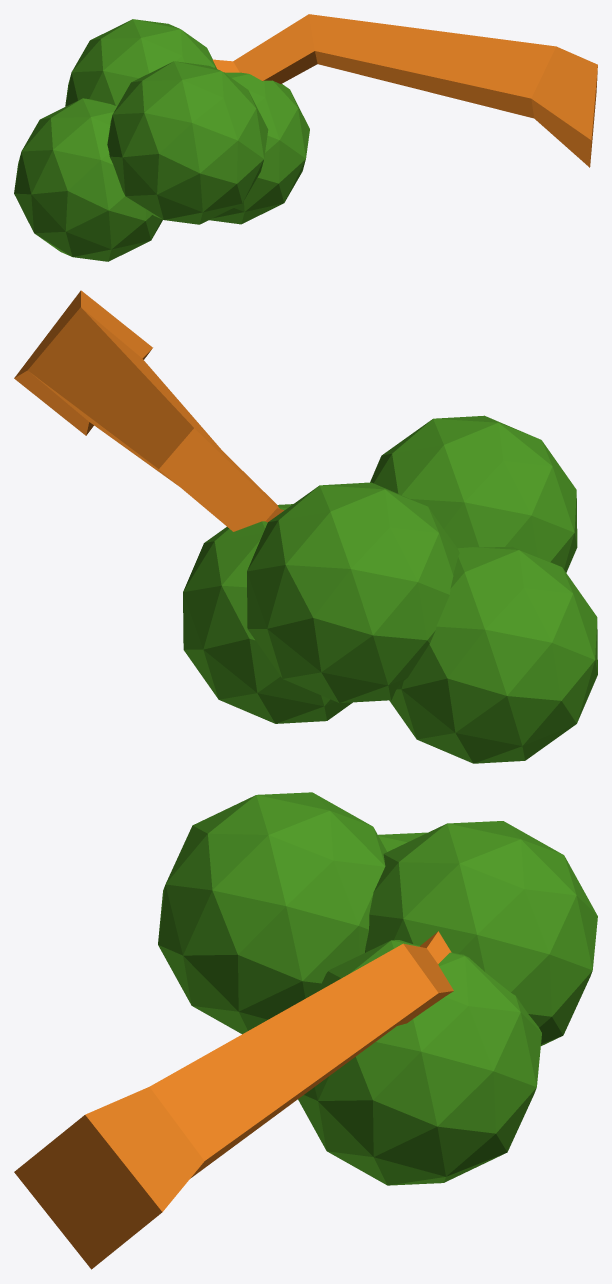
The model's file is tree5.fbx.
The picture shows the model from 3 angles, top to bottom: view 1: azimuth 30°, elevation 25°; view 2: azimuth 150°, elevation 25°; view 3: azimuth 270°, elevation 25°; orthographic projection. The views are drawn at different scales.
Visible parts, largest first — view 1: Cube.005; view 2: Cube.005; view 3: Cube.005.
Part boxes in pixels (bbox=[...]): Cube.005: bbox=[14, 14, 597, 261]; Cube.005: bbox=[14, 290, 597, 763]; Cube.005: bbox=[14, 792, 597, 1269].
Size of the model in its own units: 206 by 78.75 by 137.
